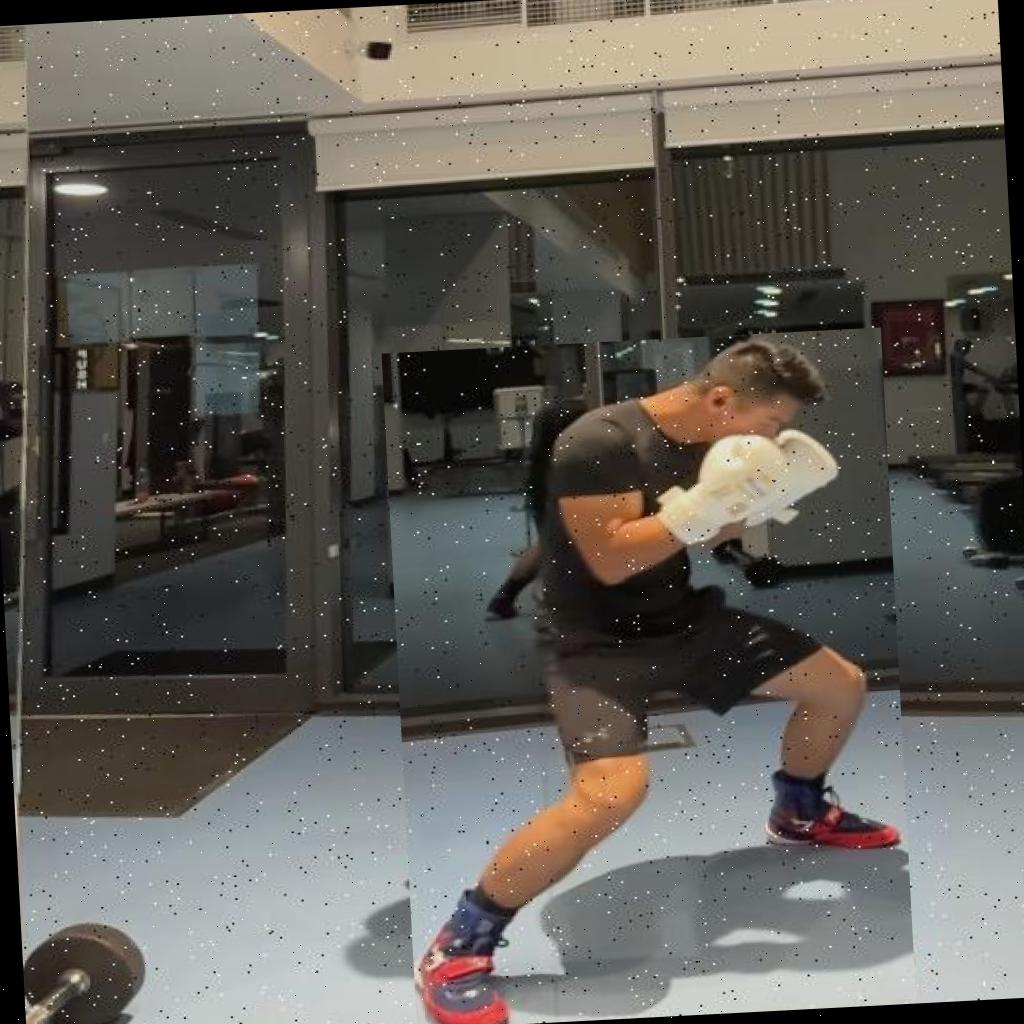no punch: (382, 327, 916, 1024)
